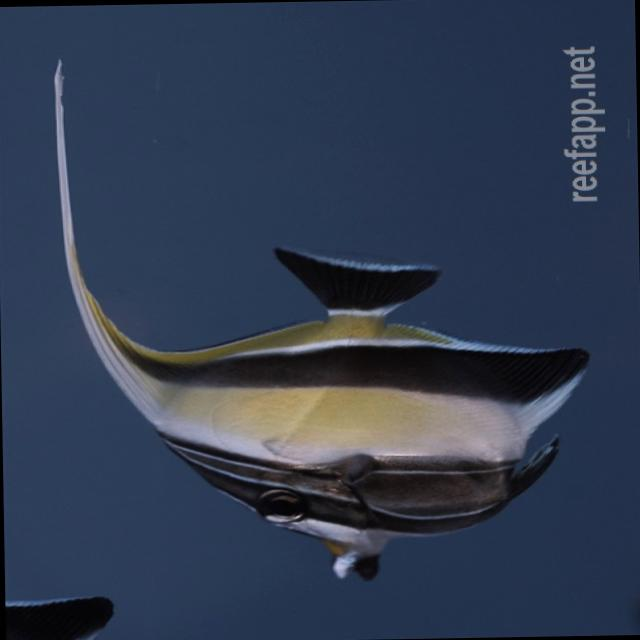MorishIdol: (44, 48, 596, 589)
